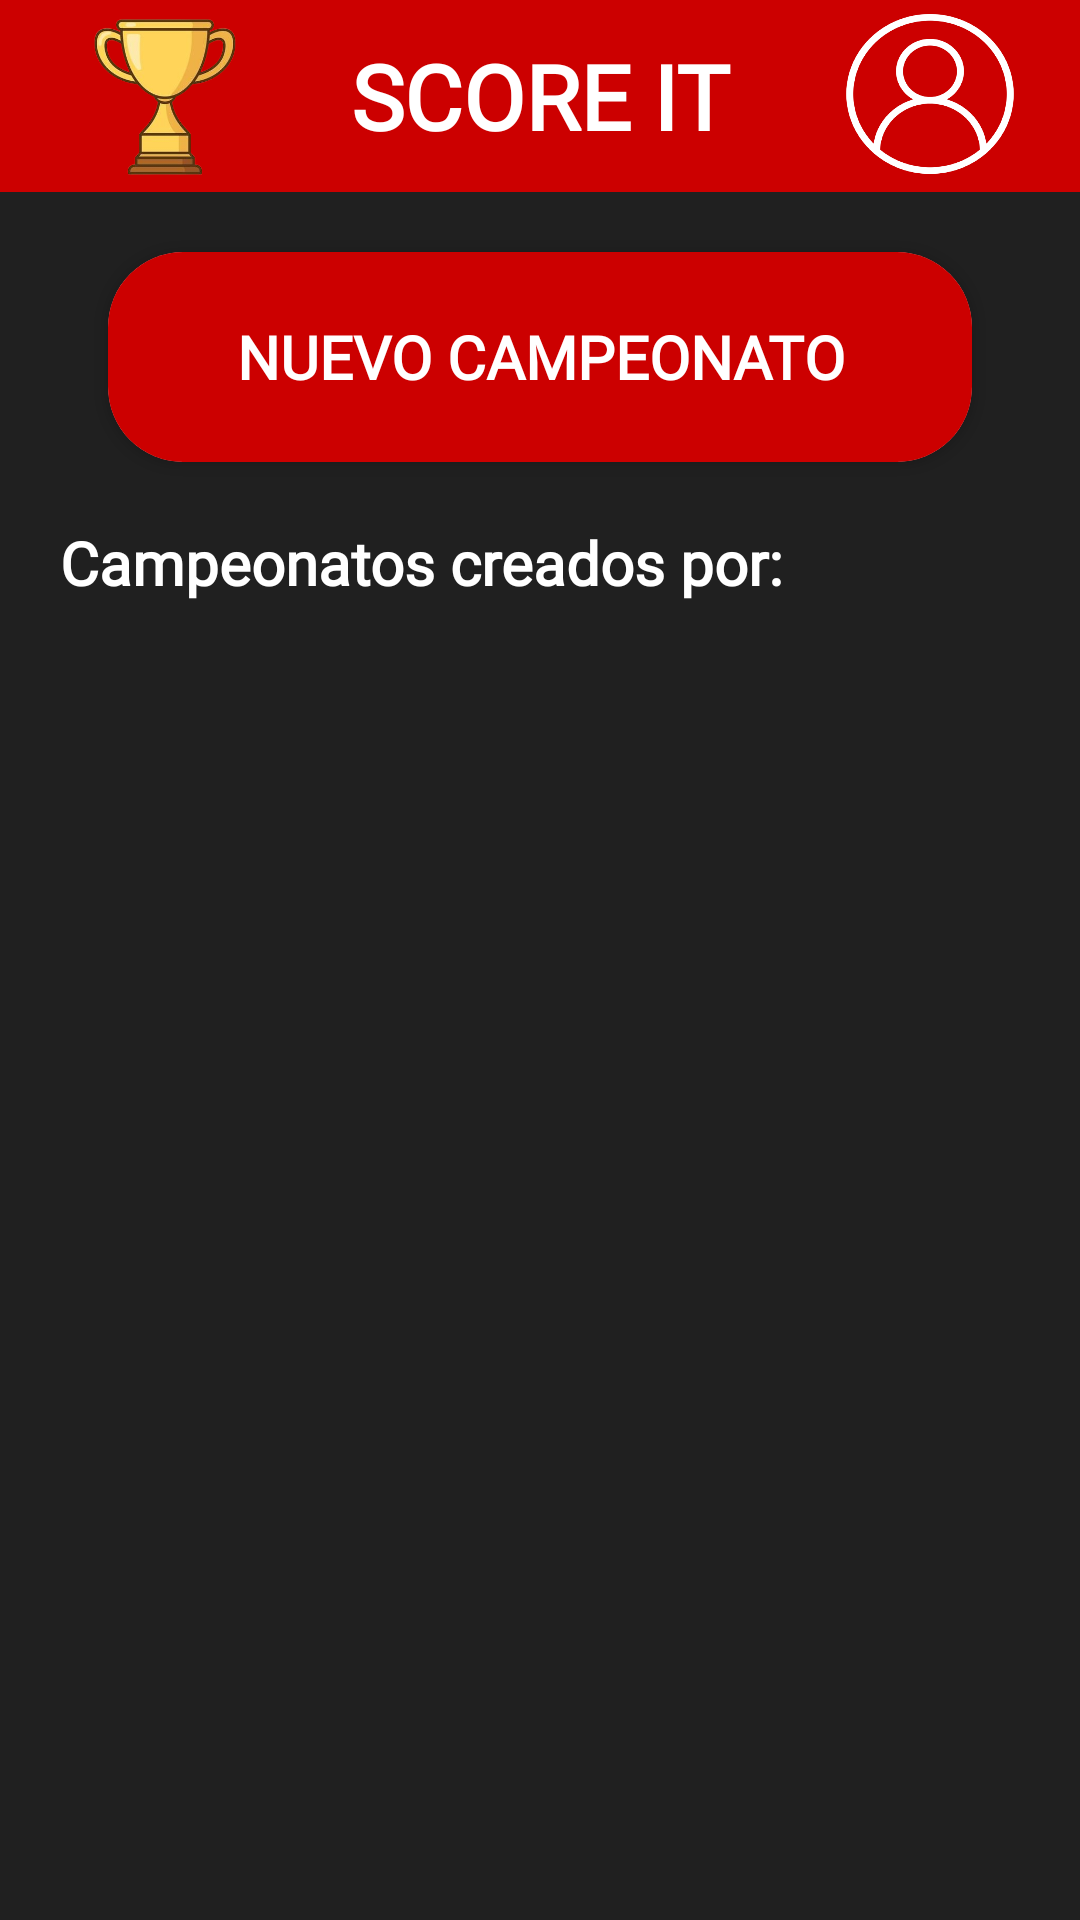

Screen size 1080 × 1920. Icon name, then its center in pixels as [x,y]:
user: [930,94]
